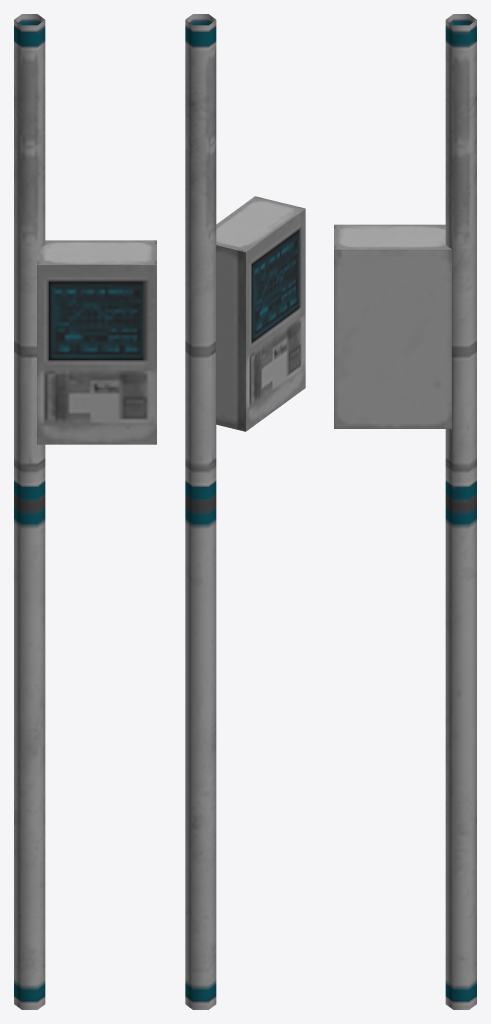
File: CP_Pipe_B_2m_03.fbx
3 views of the same model, side by side, from view 1: azimuth 90°, elevation 25°; view 2: azimuth 150°, elevation 25°; view 3: azimuth 270°, elevation 25° (orthographic).
Parts seen in each view (by area): view 1: CP_Pipe_B_2m_03; view 2: CP_Pipe_B_2m_03; view 3: CP_Pipe_B_2m_03.
Boxes of the visible parts, box(x1,y1,x2,y2) form: CP_Pipe_B_2m_03: box(14, 14, 156, 1009); CP_Pipe_B_2m_03: box(185, 14, 305, 1009); CP_Pipe_B_2m_03: box(334, 14, 476, 1009).
Size of the model in its own units: 11.28 by 200 by 26.28.
